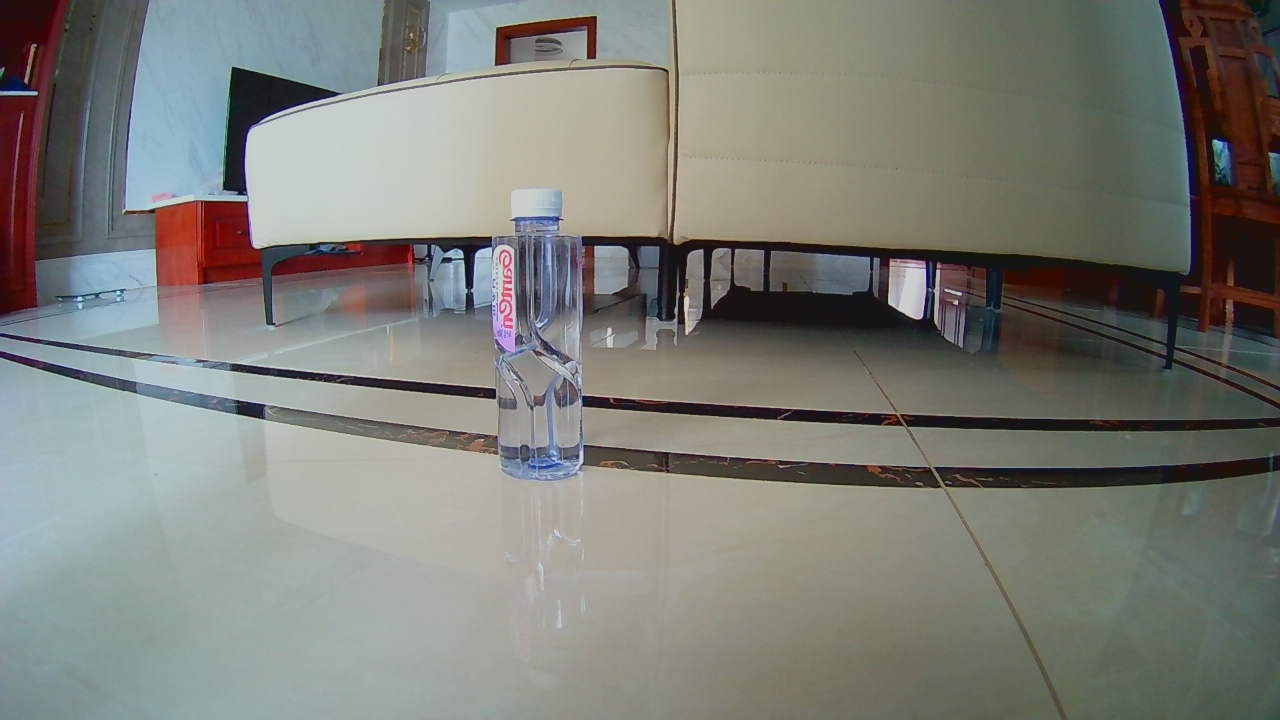water: (489, 187, 587, 485)
